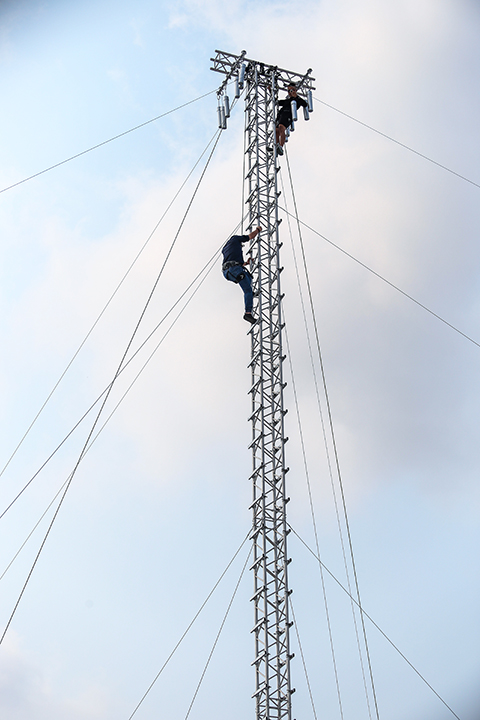infiltrator: (221, 227, 272, 324), (273, 79, 314, 155)
